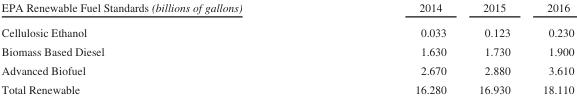table: (0, 1, 573, 95)
table column: (0, 1, 327, 95), (327, 1, 461, 95), (461, 1, 525, 95), (525, 1, 573, 95)
table column header: (0, 1, 573, 19)
table row: (0, 19, 573, 41), (0, 41, 573, 60), (0, 60, 573, 79), (0, 1, 573, 19), (0, 79, 573, 95)
